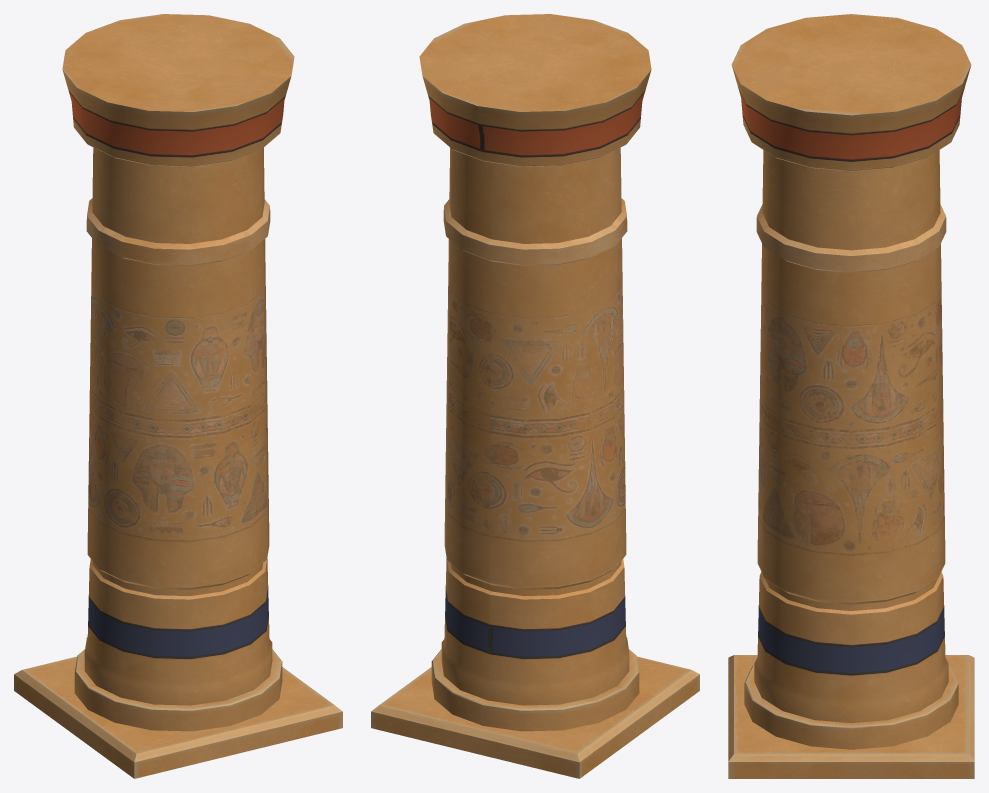
The model's file is SM_Env_Pillar_A2.fbx.
3 renders of one model, left to right at view 1: azimuth 30°, elevation 25°; view 2: azimuth 150°, elevation 25°; view 3: azimuth 270°, elevation 25°, orthographic. The views are drawn at different scales.
Visible parts, largest first — view 1: Pillar_B; view 2: Pillar_B; view 3: Pillar_B.
Part boxes in pixels (x1,y1,x2,y2): Pillar_B: [14, 14, 342, 778]; Pillar_B: [371, 14, 699, 778]; Pillar_B: [728, 14, 974, 778].
Bounding box in the file's own units: 100 × 296 × 100.
Materials: 1 (1 with a texture image).
